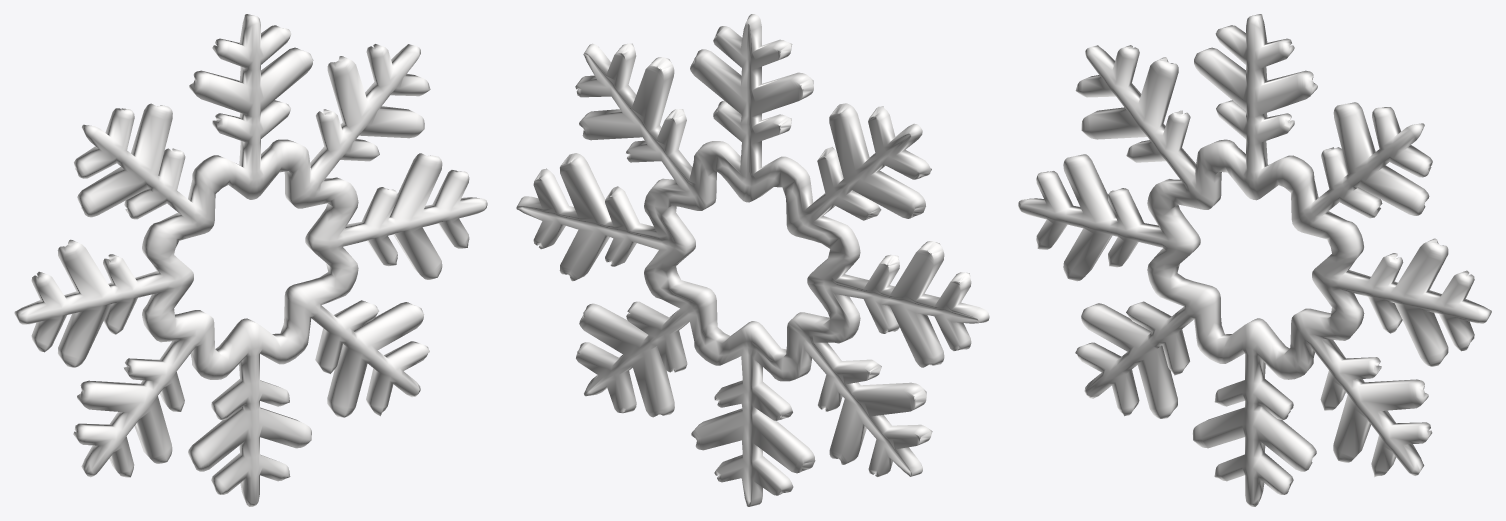
The model's file is freeze_final.fbx.
3 renders of one model, left to right at view 1: azimuth 30°, elevation 25°; view 2: azimuth 150°, elevation 25°; view 3: azimuth 330°, elevation 25°, orthographic.
Visible parts, largest first — view 1: Freeze; view 2: Freeze; view 3: Freeze.
Part boxes in pixels (x1=…): Freeze: x1=14, y1=14, x2=487, y2=506; Freeze: x1=516, y1=14, x2=989, y2=506; Freeze: x1=1018, y1=14, x2=1491, y2=506.
Size of the model in its own units: 150 by 150 by 6.34.
